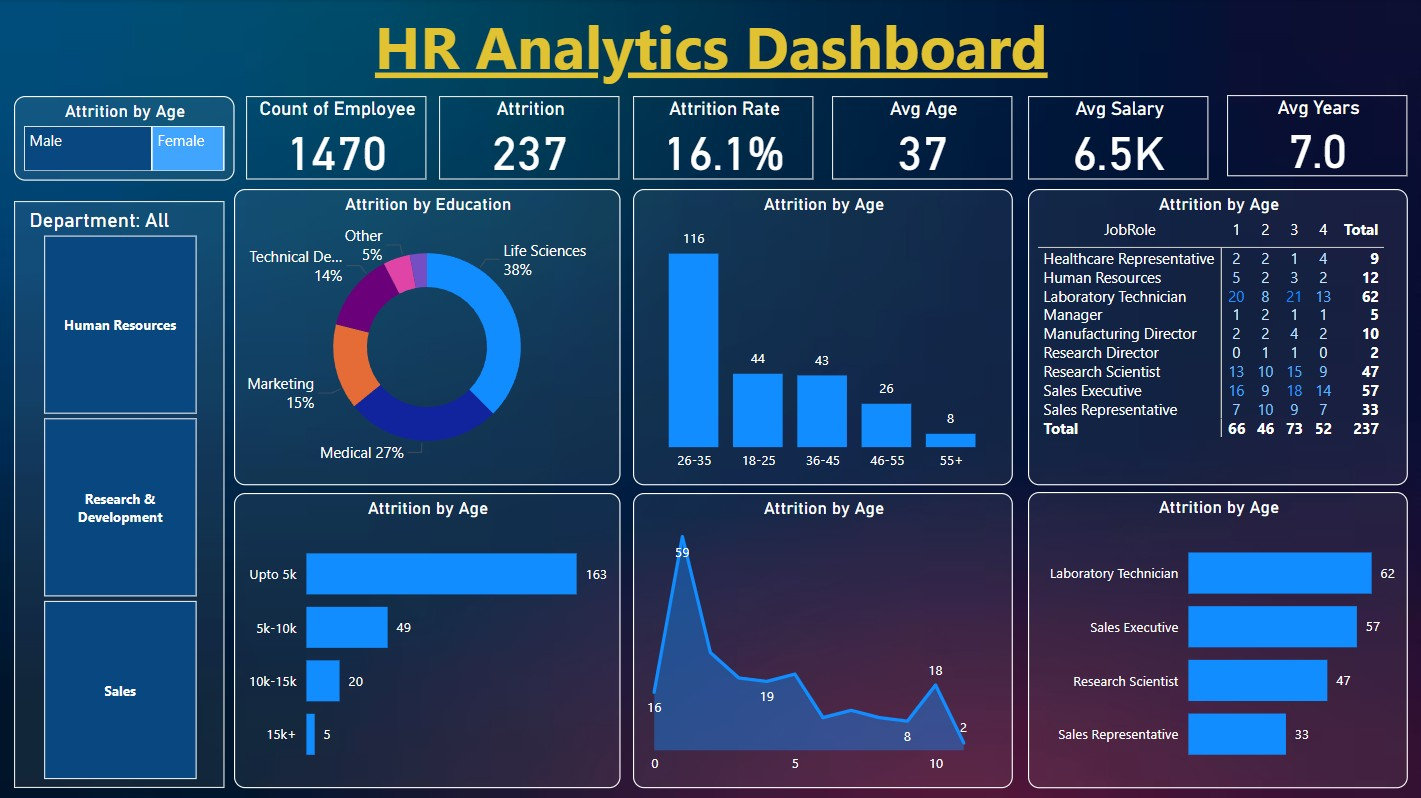

The page's visual inventory and layout, read from the dashboard file:
{"tool":"powerbi","page":{"name":"Page 1","canvas":[1280,720],"ordinal":0},"visuals":[{"type":"card","title":"Count of Employee","fields":{"Values":["CountNonNull(HR_Analytics.EmpID)"]},"box":[222.6,87.1,162.5,74.5],"z":0},{"type":"card","title":"Attrition","fields":{"Values":["Sum(HR_Analytics.AttritionCount)"]},"box":[395.9,87.1,162.5,74.5],"z":1000},{"type":"card","title":"Attrition Rate","fields":{"Values":["HR_Analytics.AtrtitionRate"]},"box":[570.1,87.1,162.5,74.5],"z":2000},{"type":"card","title":"Avg Age","fields":{"Values":["Avg(HR_Analytics.Age)"]},"box":[748.7,87.1,162.5,74.5],"z":3000},{"type":"card","title":"Avg Salary","fields":{"Values":["Avg(HR_Analytics.MonthlyIncome)"]},"box":[924.7,87.1,162.5,75.4],"z":4000},{"type":"card","title":"Avg Years","fields":{"Values":["Avg(HR_Analytics.YearsAtCompany)"]},"box":[1103.3,86.2,162.5,72.7],"z":5000},{"type":"donutChart","title":"Attrition by Education","fields":{"Category":["HR_Analytics.EducationField"],"Y":["Sum(HR_Analytics.AttritionCount)"]},"box":[211.9,170.6,346.5,265.7],"z":6000},{"type":"columnChart","title":"Attrition by Age","fields":{"Category":["HR_Analytics.AgeGroup"],"Y":["Sum(HR_Analytics.AttritionCount)"]},"box":[570.1,170.6,341.1,265.7],"z":7000},{"type":"pivotTable","title":"Attrition by Age","fields":{"Rows":["HR_Analytics.JobRole"],"Columns":["HR_Analytics.JobSatisfaction"],"Values":["Sum(HR_Analytics.AttritionCount)"]},"box":[924.7,170.6,341.1,265.7],"z":8000},{"type":"barChart","title":"Attrition by Age","fields":{"Category":["HR_Analytics.SalarySlab"],"Y":["Sum(HR_Analytics.AttritionCount)"]},"box":[211.9,443.5,346.5,264.8],"z":9000},{"type":"barChart","title":"Attrition by Age","fields":{"Category":["HR_Analytics.JobRole"],"Y":["Sum(HR_Analytics.AttritionCount)"]},"box":[924.7,442.6,341.1,265.7],"z":10000},{"type":"areaChart","title":"Attrition by Age","fields":{"Category":["HR_Analytics.YearsAtCompany"],"Y":["Sum(HR_Analytics.AttritionCount)"]},"box":[570.1,443.5,341.1,264.8],"z":11000},{"type":"treemap","title":"Attrition by Age","fields":{"Group":["HR_Analytics.Gender"],"Values":["Sum(HR_Analytics.AttritionCount)"]},"box":[14.4,87.1,197.5,76.3],"z":12000},{"type":"slicer","fields":{"Values":["HR_Analytics.Department"]},"box":[14.4,181.3,188.5,527],"z":13000},{"type":"textbox","box":[14,0,1252,86],"z":14000}]}

Visuals, with their boxes in screenshot pixels (x1, y1, x2, y2), scaled from the page's 1280x720 canvas onto the 1421x798 screenshot:
"Count of Employee" card: pyautogui.locateOnScreen(247, 97, 428, 179)
"Attrition" card: pyautogui.locateOnScreen(440, 97, 620, 179)
"Attrition Rate" card: pyautogui.locateOnScreen(633, 97, 813, 179)
"Avg Age" card: pyautogui.locateOnScreen(831, 97, 1012, 179)
"Avg Salary" card: pyautogui.locateOnScreen(1027, 97, 1207, 180)
"Avg Years" card: pyautogui.locateOnScreen(1225, 96, 1405, 176)
"Attrition by Education" donutChart: pyautogui.locateOnScreen(235, 189, 620, 484)
"Attrition by Age" columnChart: pyautogui.locateOnScreen(633, 189, 1012, 484)
"Attrition by Age" pivotTable: pyautogui.locateOnScreen(1027, 189, 1405, 484)
"Attrition by Age" barChart: pyautogui.locateOnScreen(235, 492, 620, 785)
"Attrition by Age" barChart: pyautogui.locateOnScreen(1027, 491, 1405, 785)
"Attrition by Age" areaChart: pyautogui.locateOnScreen(633, 492, 1012, 785)
"Attrition by Age" treemap: pyautogui.locateOnScreen(16, 97, 235, 181)
slicer - HR_Analytics.Department: pyautogui.locateOnScreen(16, 201, 225, 785)
textbox: pyautogui.locateOnScreen(16, 0, 1405, 95)
